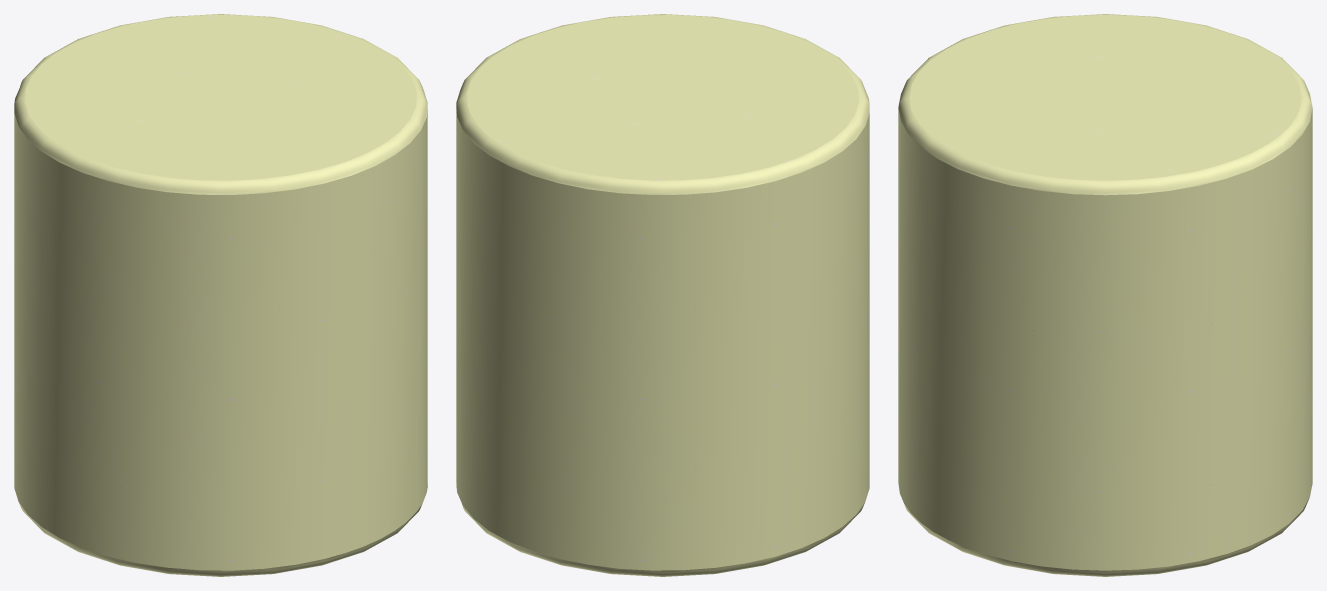
3 views of the same model, side by side, from view 1: azimuth 30°, elevation 25°; view 2: azimuth 150°, elevation 25°; view 3: azimuth 270°, elevation 25° (orthographic).
Parts seen in each view (by area): view 1: aecf8ea2-36ee-4e3a-a7ba-13688f3fd13e; view 2: aecf8ea2-36ee-4e3a-a7ba-13688f3fd13e; view 3: aecf8ea2-36ee-4e3a-a7ba-13688f3fd13e.
Boxes of the visible parts, bbox=[...] form: aecf8ea2-36ee-4e3a-a7ba-13688f3fd13e: bbox=[14, 14, 427, 576]; aecf8ea2-36ee-4e3a-a7ba-13688f3fd13e: bbox=[456, 14, 869, 576]; aecf8ea2-36ee-4e3a-a7ba-13688f3fd13e: bbox=[898, 14, 1312, 576].
Size of the model in its own units: 0.38 by 0.4001 by 0.38.
1 material, 1 textured.
